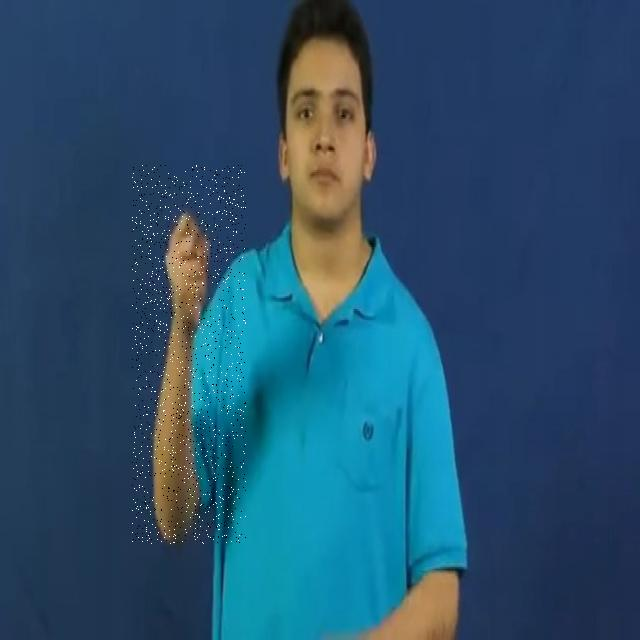drive: (132, 165, 246, 544)
